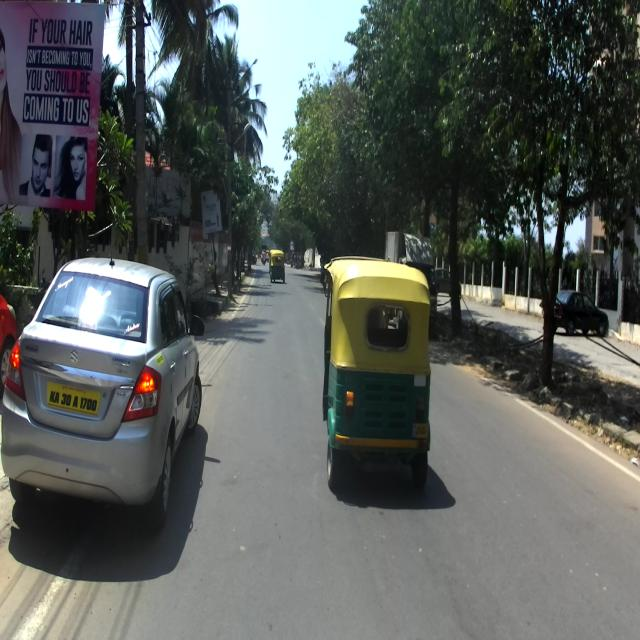auto ahead at: (320, 253, 438, 504)
car ahead at: (7, 255, 203, 531)
tree ahead at: (471, 2, 616, 392)
